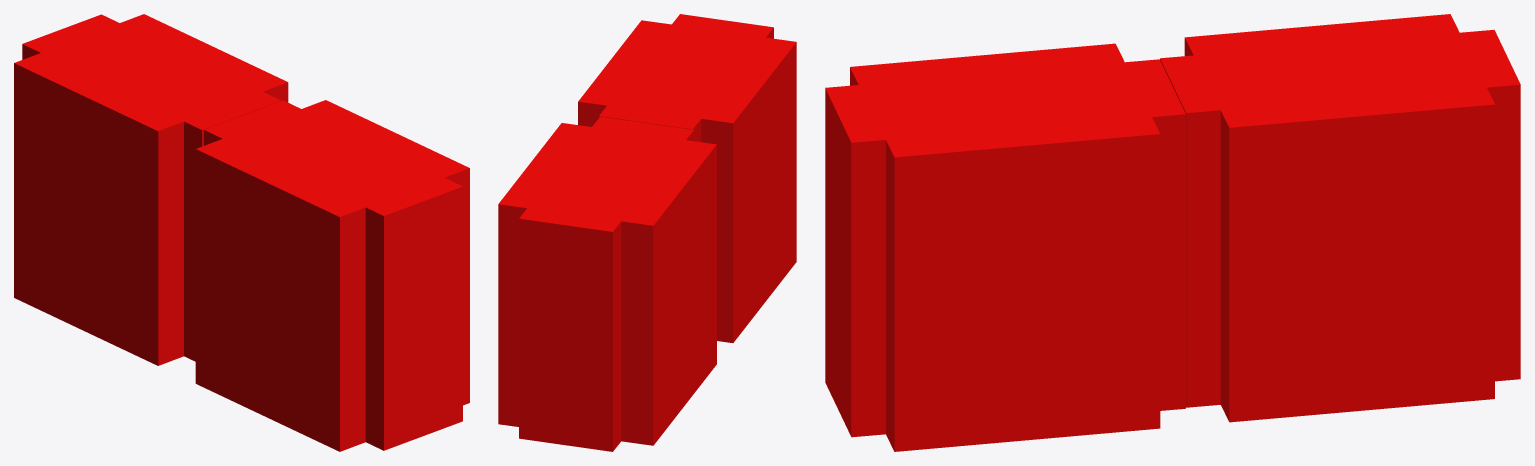
Rendered from PDV_Dummy_(T5_T6)_(1).fbx.
3 views of the same model, side by side, from view 1: azimuth 30°, elevation 25°; view 2: azimuth 150°, elevation 25°; view 3: azimuth 270°, elevation 25° (orthographic). The views are drawn at different scales.
Visible parts, largest first — view 1: Cube_1, Cube, Cube__1__1, Cube__1_; view 2: Cube, Cube_1, Cube__1_, Cube__1__1; view 3: Cube, Cube_1, Cube__1__1, Cube__1_.
Boxes of the visible parts, <box> form: Cube_1: <box>195,100,469,451</box>; Cube: <box>14,14,288,365</box>; Cube__1__1: <box>204,100,462,450</box>; Cube__1_: <box>22,14,281,361</box>; Cube: <box>498,123,716,445</box>; Cube_1: <box>578,20,796,342</box>; Cube__1_: <box>519,116,693,451</box>; Cube__1__1: <box>599,14,773,142</box>; Cube: <box>1184,14,1494,422</box>; Cube_1: <box>850,43,1160,451</box>; Cube__1__1: <box>825,59,1185,437</box>; Cube__1_: <box>1160,29,1520,407</box>.
Size of the model in its own units: 1753 by 1678 by 3591.
